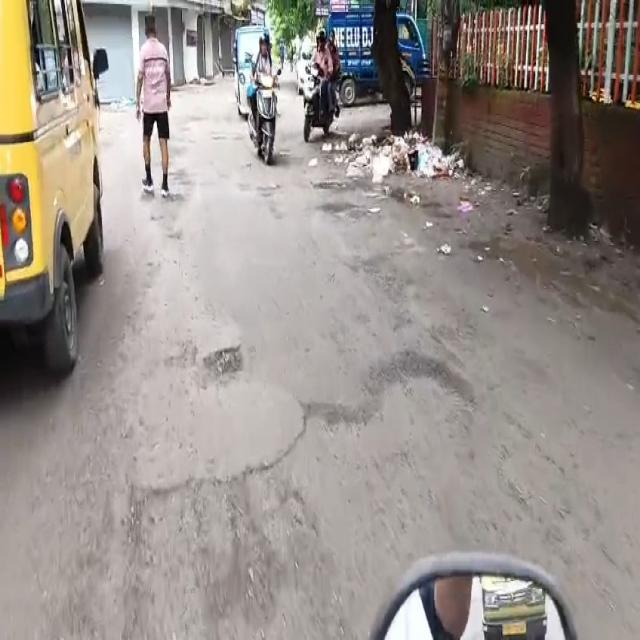road-pothole: (306, 345, 527, 576), (125, 466, 317, 637), (205, 337, 247, 380)
